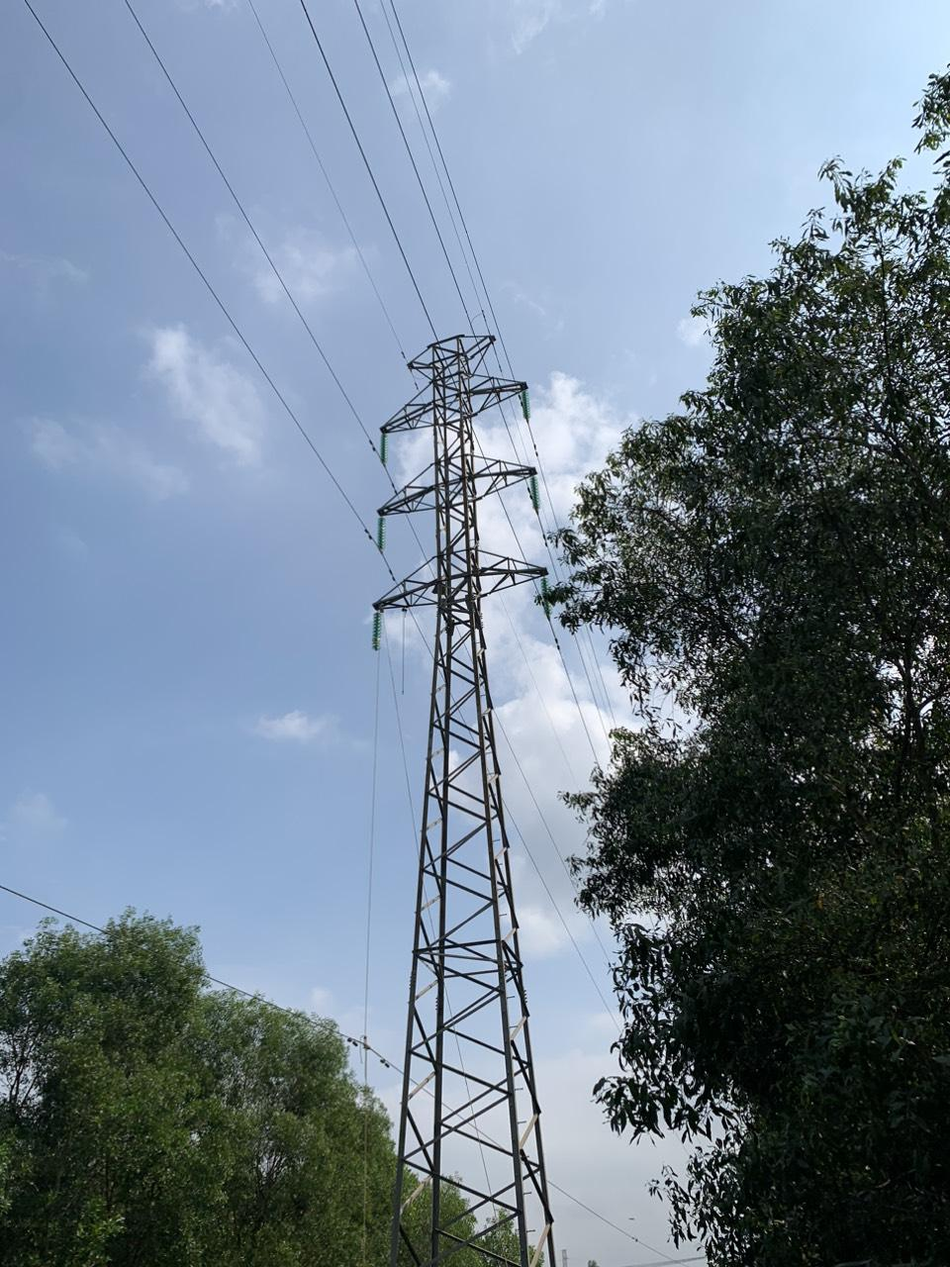tower: (362, 312, 571, 1267)
